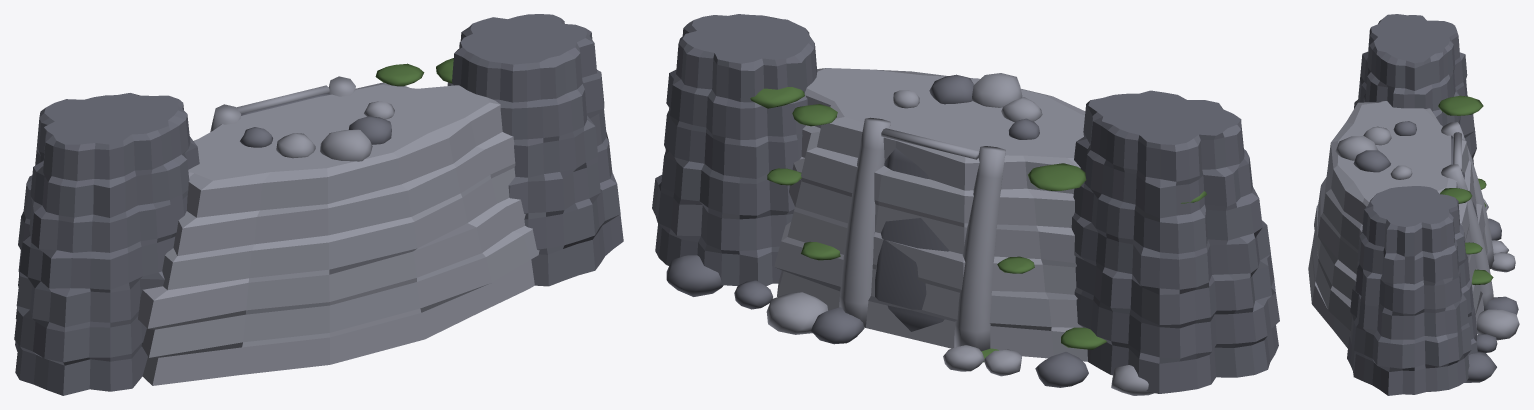
Rendered from falls_cliff.glb.
3 views of the same model, side by side, from view 1: azimuth 30°, elevation 25°; view 2: azimuth 150°, elevation 25°; view 3: azimuth 270°, elevation 25° (orthographic). The views are drawn at different scales.
Visible parts, largest first — view 1: wall; view 2: wall; view 3: wall.
Part boxes in pixels (x1,y1,x2,y2): wall: (14, 14, 623, 395); wall: (652, 14, 1279, 395); wall: (1308, 14, 1519, 395).
Size of the model in its own units: 56.01 by 22.49 by 22.89.
